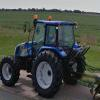Tractor: (7, 14, 89, 87)
